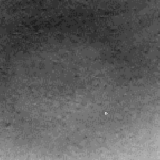Target: (102, 110, 109, 116)
